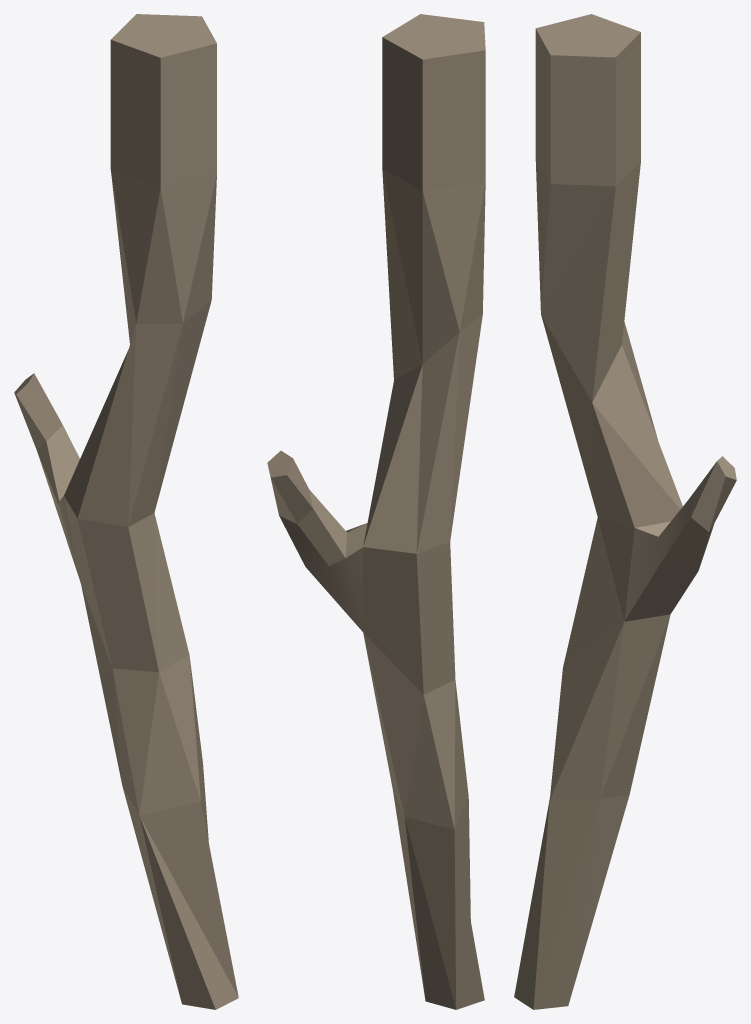
The model's file is stick.fbx.
3 renders of one model, left to right at view 1: azimuth 90°, elevation 25°; view 2: azimuth 150°, elevation 25°; view 3: azimuth 270°, elevation 25°, orthographic. The views are drawn at different scales.
Parts seen in each view (by area): view 1: stick01; view 2: stick01; view 3: stick01.
Boxes of the visible parts, box(x1,y1,x2,y2) form: stick01: box(14, 14, 238, 1009); stick01: box(267, 14, 485, 1009); stick01: box(514, 14, 736, 1009).
Size of the model in its own units: 1.16 by 7.22 by 1.52.
